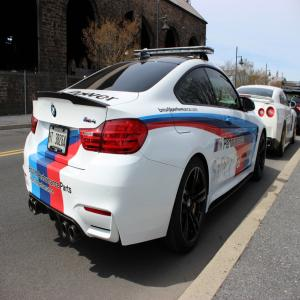Vehicle-registration-plate: (46, 126, 66, 154)
